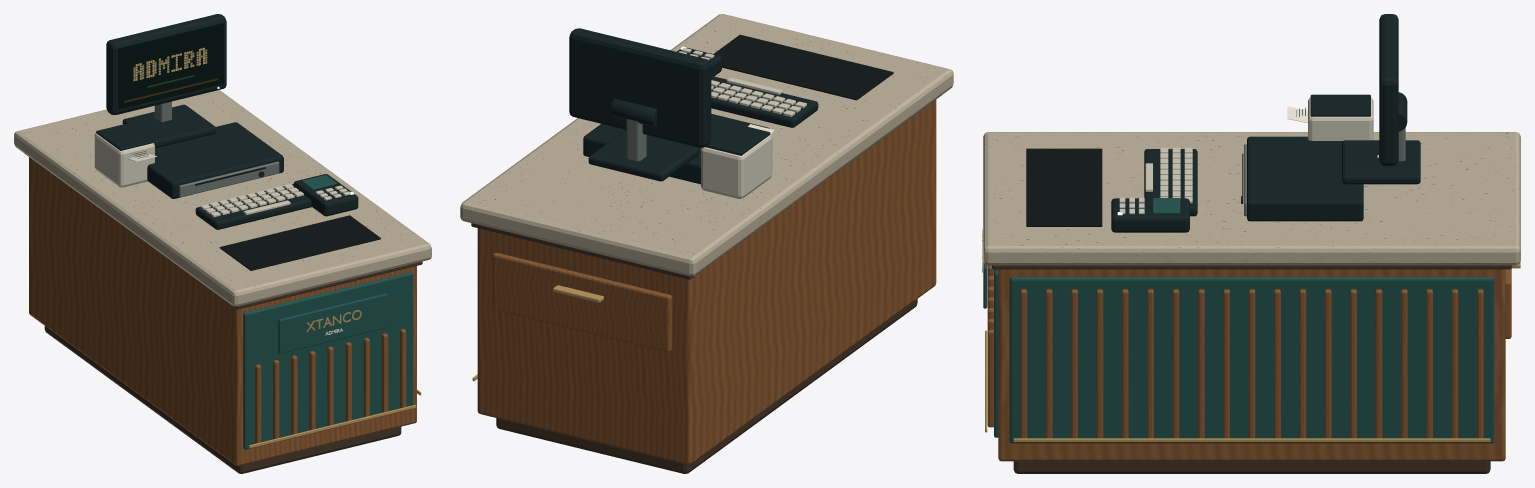
Rendered from counter-interpreted-better.glb.
3 renders of one model, left to right at view 1: azimuth 30°, elevation 25°; view 2: azimuth 150°, elevation 25°; view 3: azimuth 270°, elevation 25°, orthographic. The views are drawn at different scales.
Parts seen in each view (by area): view 1: cabinet_body, solid_terrazzo_worktop, front_teal_panel, screen_tpv_main, cash_drawer_shell, packing_mat, brand_nameplate, tpv_bezel, cabinet_plinth, tpv_weighted_base, receipt_printer_body, keyboard_body (+14 smaller); view 2: cabinet_body, solid_terrazzo_worktop, tpv_bezel, rear_service_drawer, packing_mat, cabinet_plinth, receipt_printer_body, tpv_weighted_base, keyboard_body, cash_drawer_shell, receipt_printer_lid, worktop_shadow_seam (+2 smaller); view 3: side_teal_panel, solid_terrazzo_worktop, cabinet_body, cash_drawer_shell, cabinet_plinth, packing_mat, tpv_bezel, tpv_weighted_base, worktop_shadow_seam, side_brass_inlay, card_terminal_base, receipt_printer_body (+23 smaller).
Part boxes in pixels (x1,y1,x2,y2): cabinet_body: (29, 157, 416, 466); solid_terrazzo_worktop: (14, 90, 431, 306); front_teal_panel: (243, 272, 413, 449); screen_tpv_main: (118, 23, 223, 109); cash_drawer_shell: (147, 122, 283, 198); packing_mat: (219, 215, 380, 270); brand_nameplate: (278, 293, 387, 353); tpv_bezel: (106, 14, 226, 115); cabinet_plinth: (44, 326, 401, 473); tpv_weighted_base: (122, 104, 216, 148); receipt_printer_body: (94, 133, 154, 187); keyboard_body: (195, 184, 311, 229); cabinet_body: (477, 100, 936, 464); solid_terrazzo_worktop: (460, 14, 953, 276); tpv_bezel: (569, 28, 711, 147); rear_service_drawer: (492, 252, 672, 352); packing_mat: (713, 34, 893, 100); cabinet_plinth: (496, 299, 917, 473); receipt_printer_body: (701, 134, 772, 198); tpv_weighted_base: (588, 130, 699, 181); keyboard_body: (711, 76, 818, 127); cash_drawer_shell: (583, 114, 769, 184); receipt_printer_lid: (706, 123, 770, 155); worktop_shadow_seam: (471, 95, 941, 279); side_teal_panel: (1009, 277, 1494, 443); solid_terrazzo_worktop: (983, 132, 1520, 265); cabinet_body: (998, 269, 1505, 461); cash_drawer_shell: (1247, 136, 1363, 221); cabinet_plinth: (1013, 461, 1490, 473); packing_mat: (1026, 148, 1102, 226); tpv_bezel: (1379, 14, 1398, 165); tpv_weighted_base: (1342, 140, 1420, 184); worktop_shadow_seam: (992, 265, 1511, 269); side_brass_inlay: (1013, 438, 1490, 442); card_terminal_base: (1111, 198, 1189, 232); receipt_printer_body: (1308, 97, 1373, 140).
Size of the model in its own units: 1.1 by 1.66 by 2.12.
Materials: 12 (3 with a texture image).
